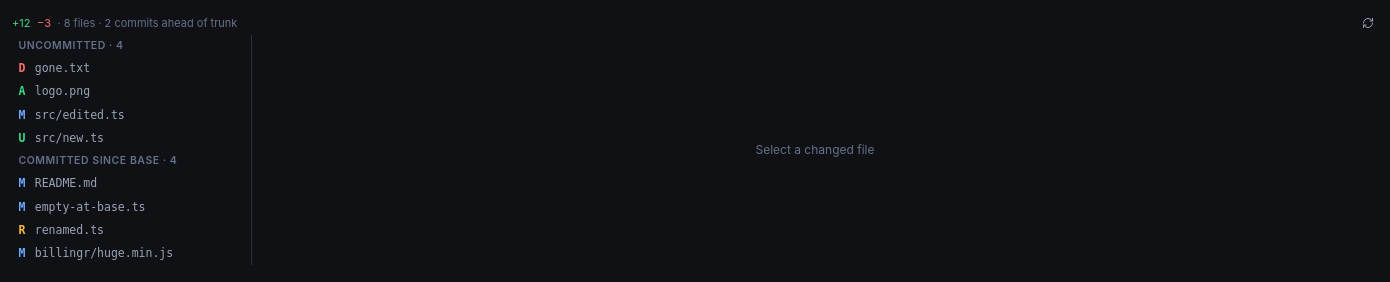
Test: header › reports a failed refresh in the header rather than leaving a stale list looking live
This screenshot has width=1390, height=282.
Click the button titled "Refresh".
click(1368, 23)  # box [1358,14,1378,33]
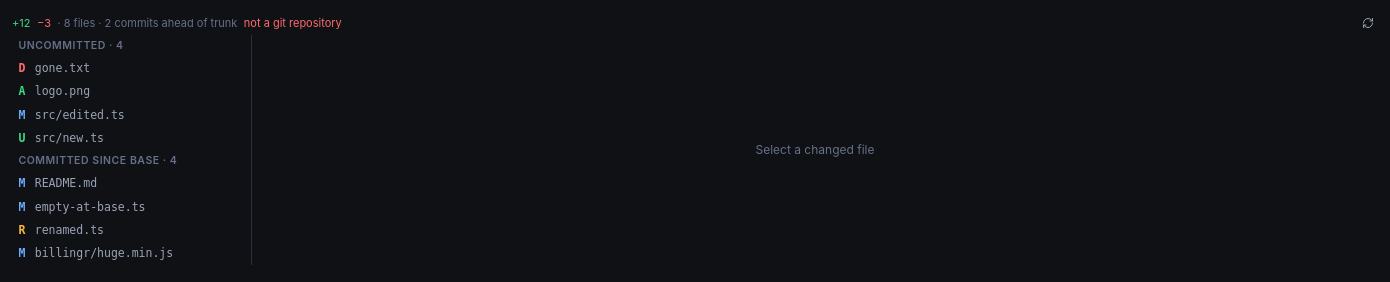
Expected: the text "8 files" is shown, [64,16,95,30]
Now the text "not a git repository" is shown, box [244,15,342,32]
